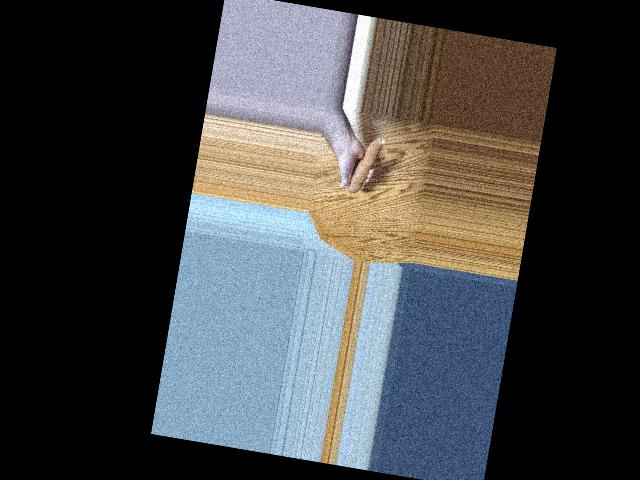sweet_potato: (346, 131, 385, 197)
